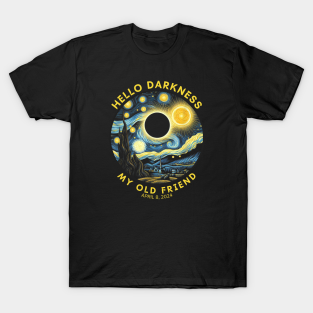design: (108, 78, 206, 202)
